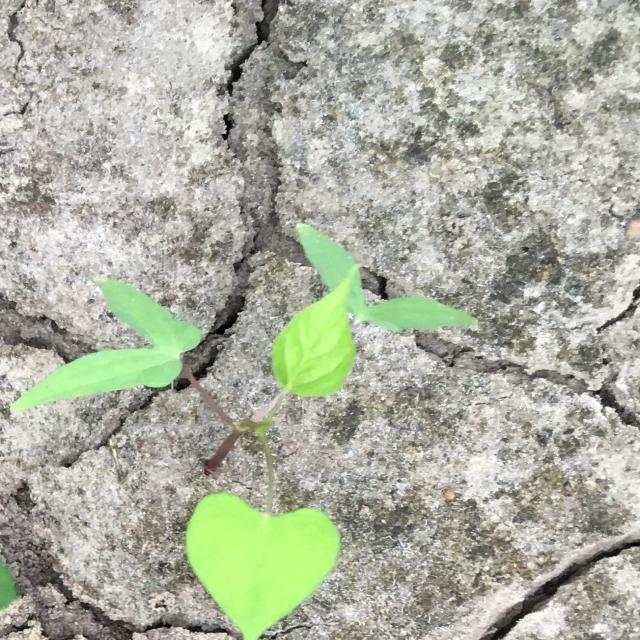MorningGlory: (11, 222, 480, 640)
